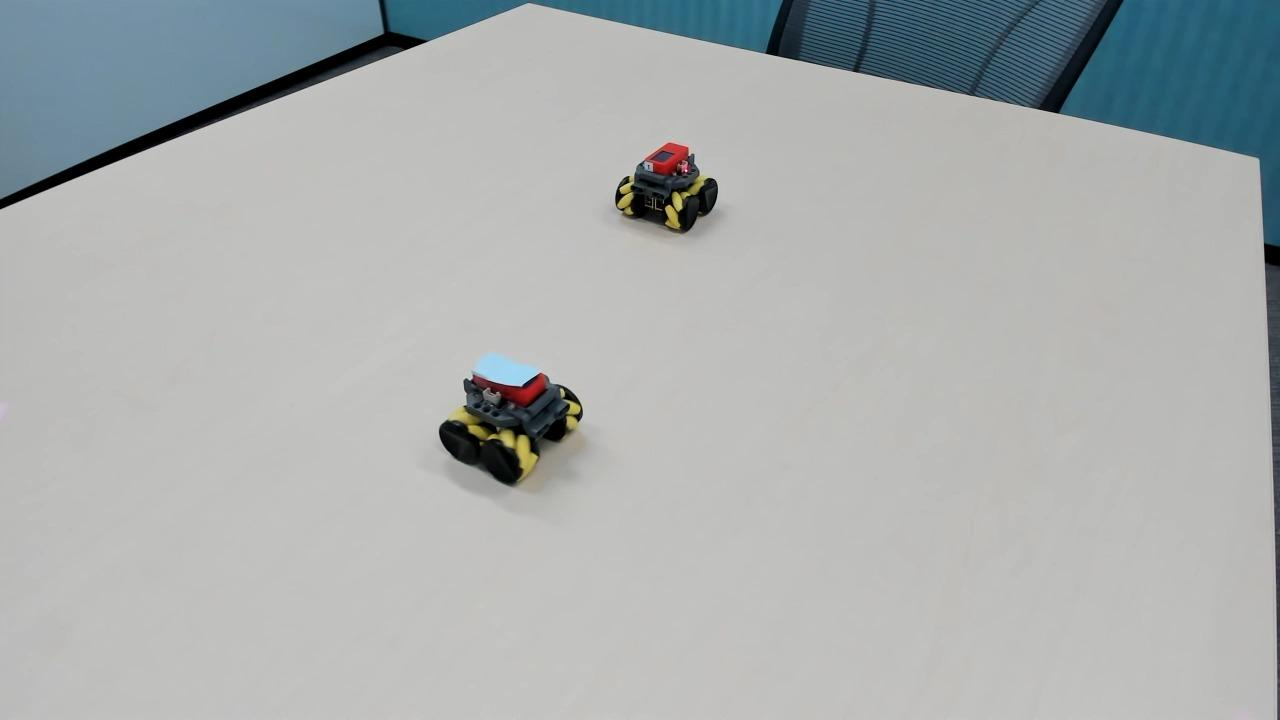B-Robot: (411, 340, 600, 500)
R-Robot: (605, 126, 739, 249)
